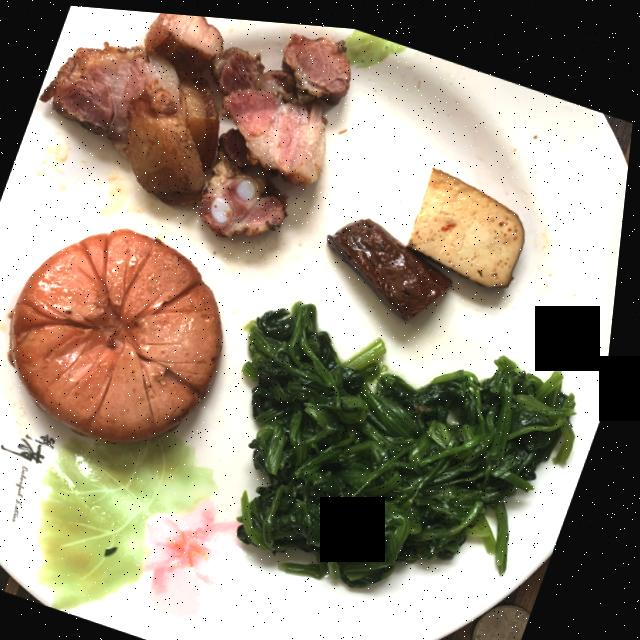Spam: (17, 225, 228, 439)
coin: (485, 594, 542, 640)
firm tofu: (332, 159, 528, 312)
grilled pork: (42, 10, 351, 231)
mustard greens: (248, 295, 582, 580)
